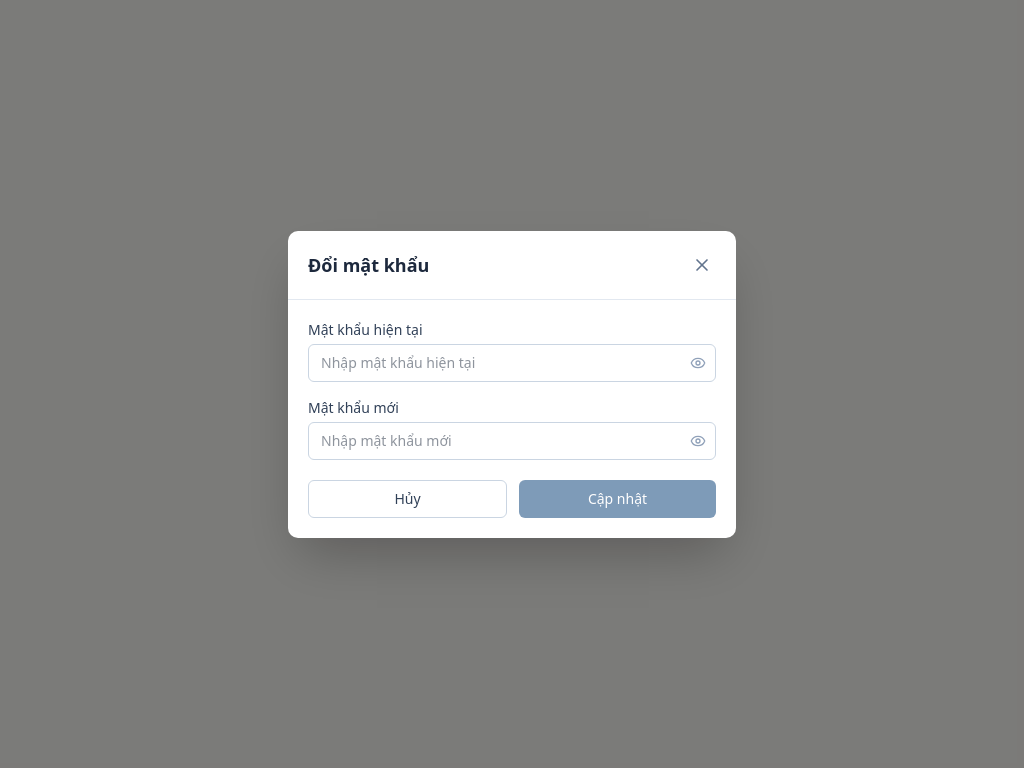
Test: ChangePasswordModal › shows strength checklist when typing new password
Type "abc" into the password field with placeholder "Nhập mật khẩu mới" at (512, 440), box [308,422,716,460]
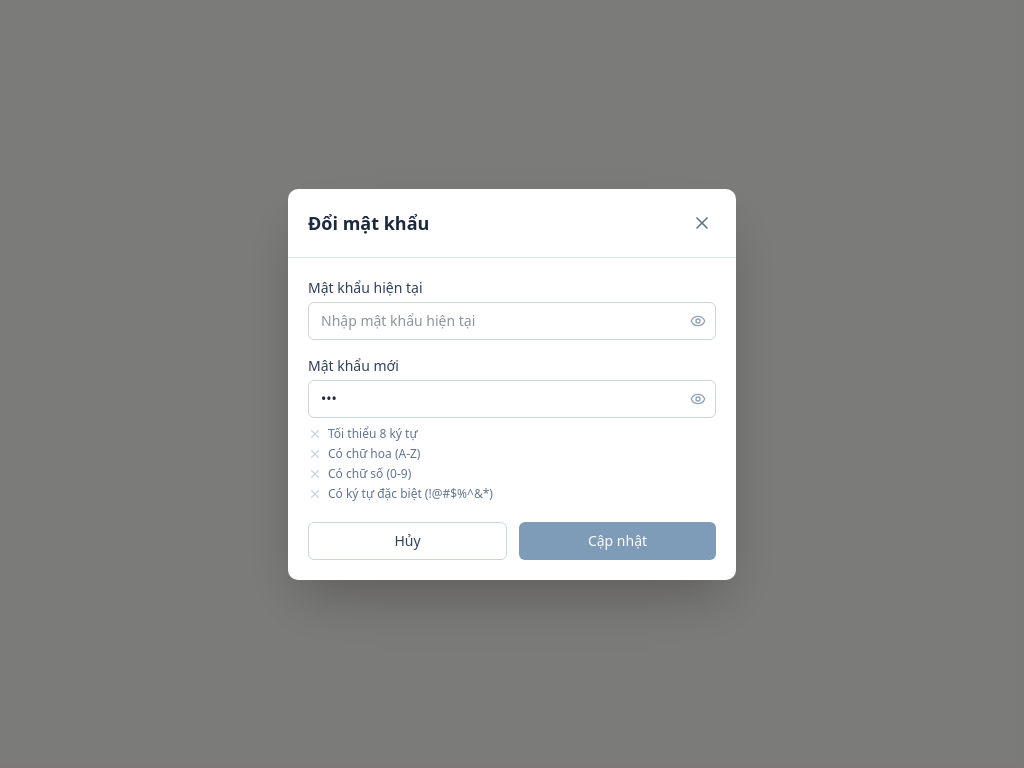
Now the text "Tối thiểu 8 ký tự" is shown, box [328,426,418,442]
Now the text "Có chữ hoa (A-Z)" is shown, box [328,446,420,462]
Now the text "Có chữ số (0-9)" is shown, box [328,466,411,482]
